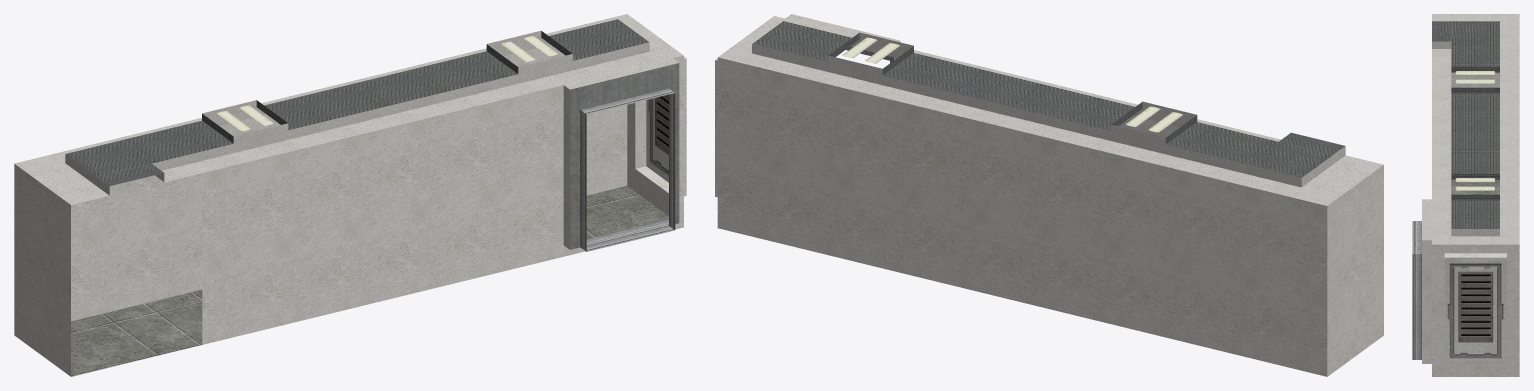
File: ply_corl_house_sm_s01_fp2_r2_hall_mesh.fbx
The picture shows the model from 3 angles, left to right: view 1: azimuth 30°, elevation 25°; view 2: azimuth 150°, elevation 25°; view 3: azimuth 270°, elevation 25°; orthographic projection. The views are drawn at different scales.
Parts seen in each view (by area): view 1: mesh_node; view 2: mesh_node; view 3: mesh_node.
Part boxes in pixels (x1,y1,x2,y2): mesh_node: (14, 14, 686, 376); mesh_node: (715, 14, 1383, 376); mesh_node: (1412, 14, 1519, 376).
Size of the model in its own units: 14.25 by 4.11 by 2.75.
